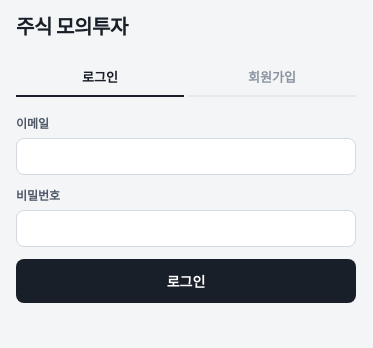
it: 로그인 / 회원가입 화면(SPEC §8.1 #1) › 비밀번호가 10자 미만이면 막는다(SPEC §3)
In the field labelled "이메일": (186, 156) [16,138,356,175], type "a@b.com"
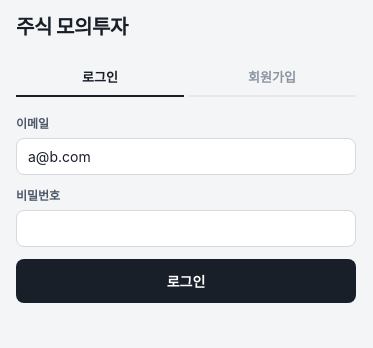
In the password field labelled "비밀번호": (186, 228) [16,210,356,247], type "short"
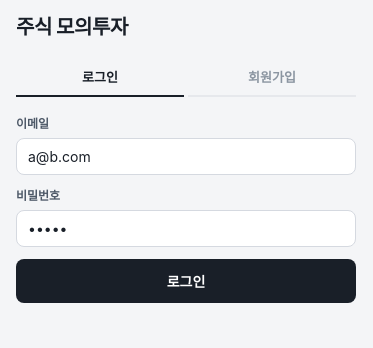
Click the button "로그인": click(186, 281) [16,259,356,303]
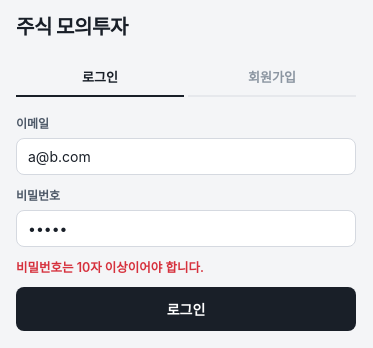
Now the text "비밀번호는 10자 이상이어야 합니다." is shown, box [16,260,204,275]
